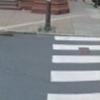crosswalks: (51, 35, 100, 99)
